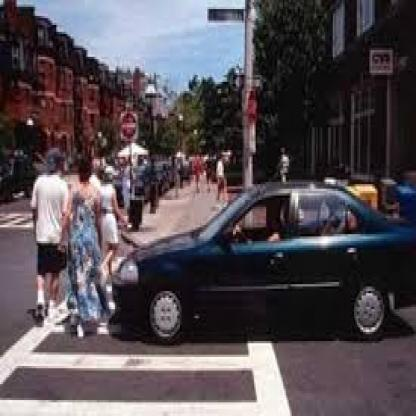Crosswalk: (0, 303, 297, 416)
Walk: (232, 72, 246, 87)
